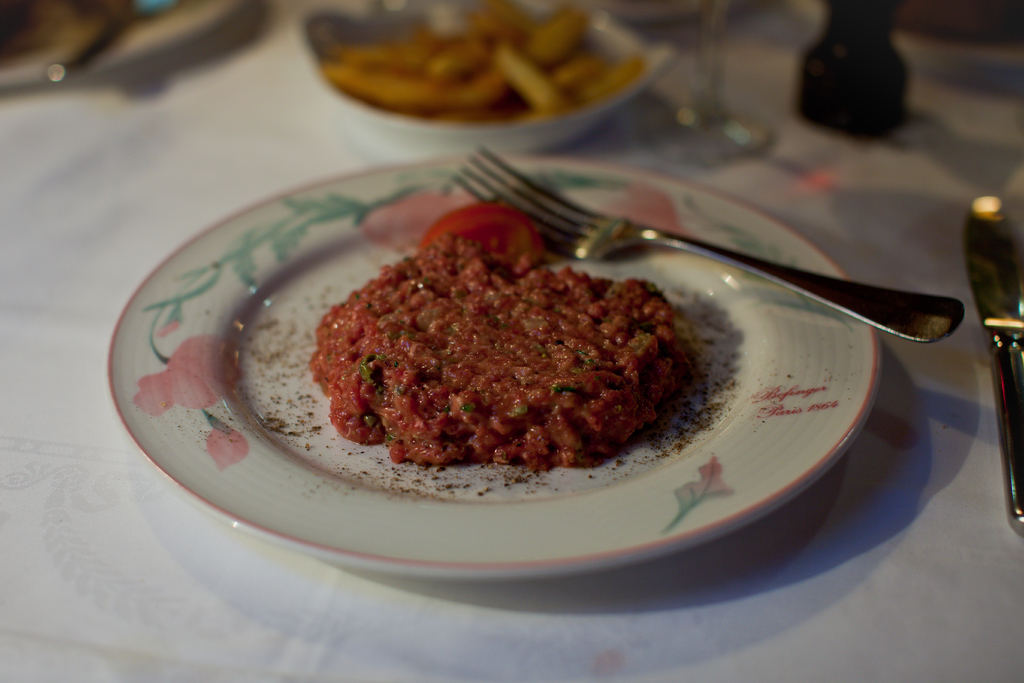French fries: (319, 0, 640, 144)
